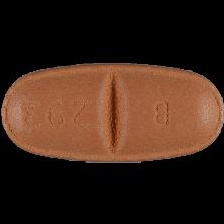60429-062: (0, 0, 224, 224)
